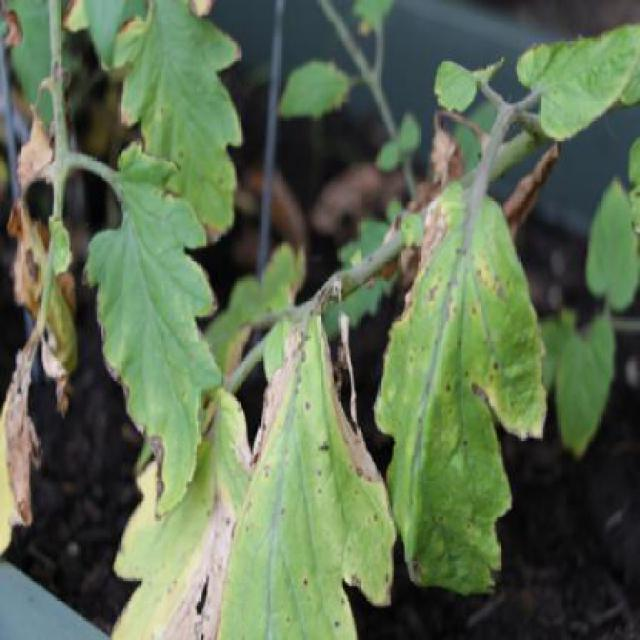Tomato Early blight leaf: (374, 184, 546, 598), (211, 302, 400, 638), (86, 130, 226, 524)
